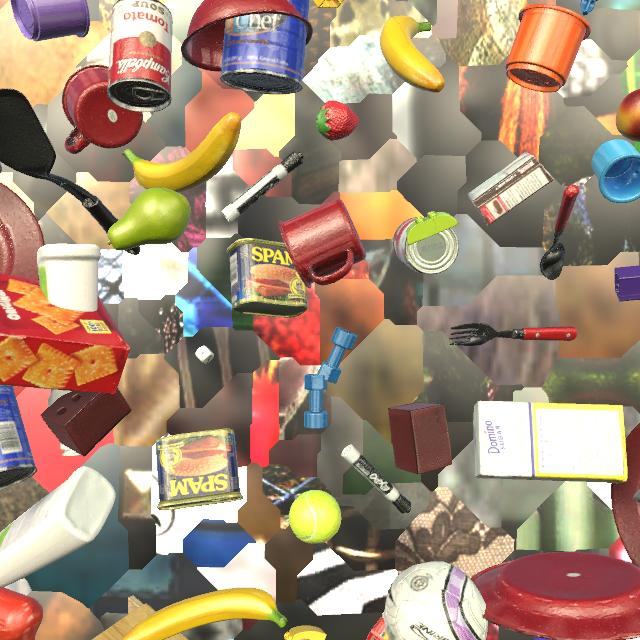ycb_002_master_chef_can: (220, 0, 309, 95), (0, 385, 37, 490)
ycb_003_cracker_box: (0, 273, 130, 394)
ycb_004_sugar_box: (473, 401, 627, 483)
ycb_005_tomato_soup_can: (107, 0, 173, 112), (393, 217, 459, 274), (0, 162, 2, 173)
ycb_008_pudding_box: (467, 152, 554, 226)
ycb_009_gelatin_box: (366, 617, 390, 640)
ycb_010_potted_meat_can: (156, 429, 243, 511), (227, 238, 308, 318)
ycb_011_banana: (122, 112, 241, 193), (122, 587, 287, 640), (380, 15, 445, 93)
ycb_012_strawberry: (316, 100, 359, 141)
ycb_015_peach: (616, 89, 640, 142)
ycb_016_pear: (107, 187, 191, 251)
